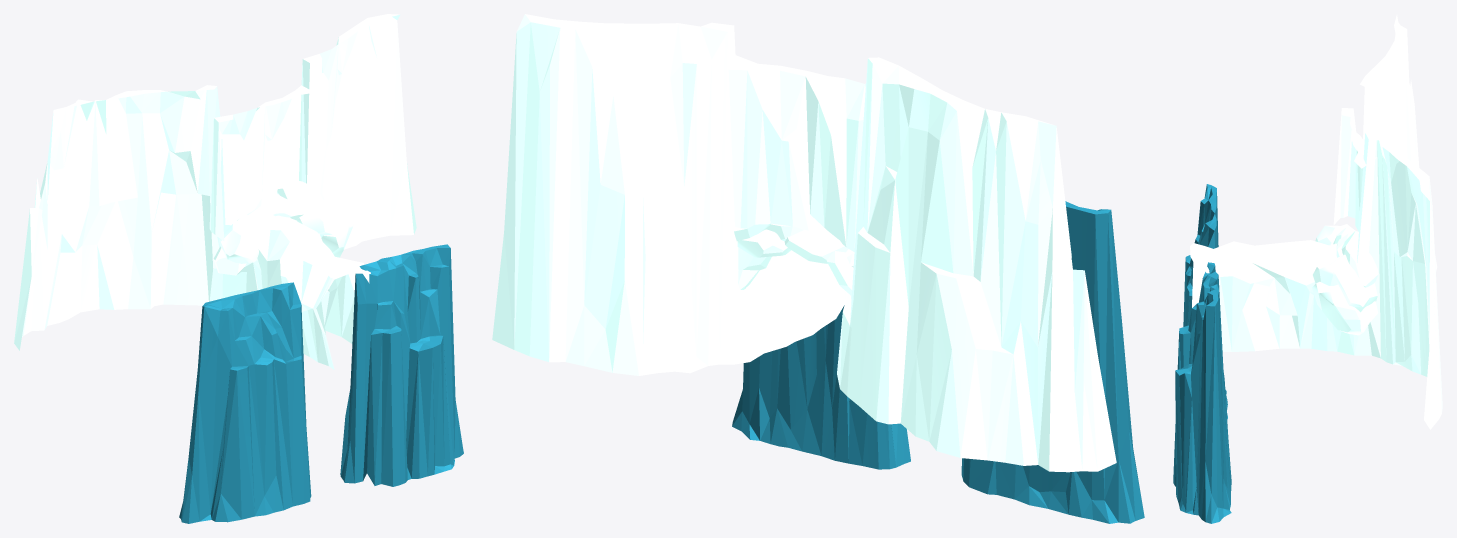
The model's file is iceStageOut2.fbx.
The picture shows the model from 3 angles, left to right: view 1: azimuth 30°, elevation 25°; view 2: azimuth 150°, elevation 25°; view 3: azimuth 270°, elevation 25°; orthographic projection. The views are drawn at different scales.
Visible parts, largest first — view 1: Cave2__1_, DoorLowRight, DoorLowLeft; view 2: Cave2__1_, DoorLowRight, DoorLowLeft; view 3: Cave2__1_, DoorLowLeft, DoorLowRight.
Boxes of the visible parts, left/top/right/bottom form: Cave2__1_: left=14, top=14, right=416, bottom=369; DoorLowRight: left=179, top=282, right=311, bottom=523; DoorLowLeft: left=340, top=244, right=463, bottom=486; Cave2__1_: left=492, top=14, right=1116, bottom=472; DoorLowRight: left=961, top=201, right=1144, bottom=523; DoorLowLeft: left=732, top=305, right=910, bottom=469; Cave2__1_: left=1190, top=15, right=1442, bottom=429; DoorLowLeft: left=1173, top=262, right=1231, bottom=523; DoorLowRight: left=1183, top=184, right=1227, bottom=418.
Size of the model in its own units: 39485 by 32010 by 22073.
